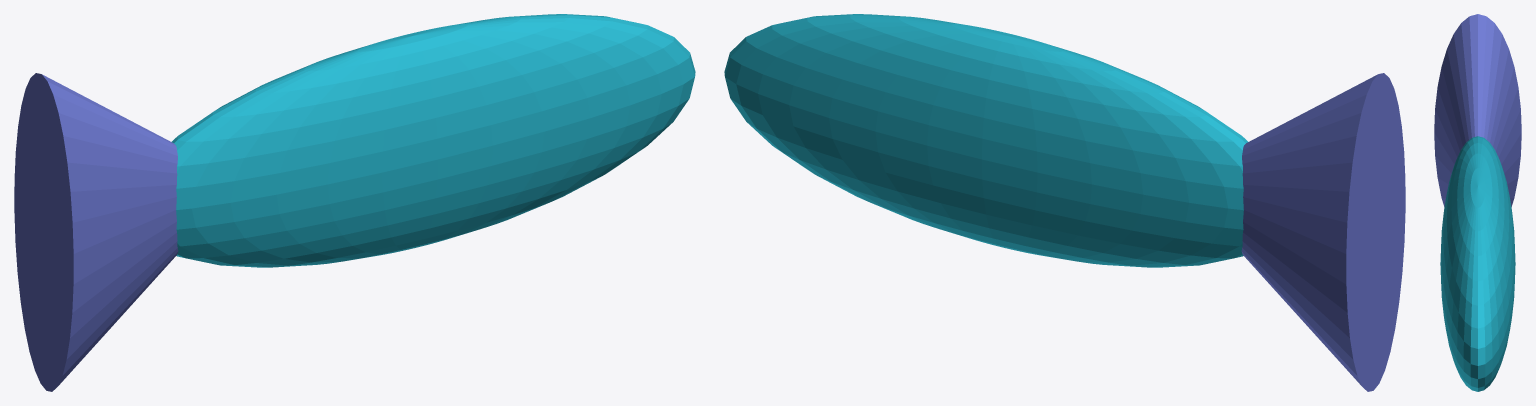
Rendered from fish.dae.
3 renders of one model, left to right at view 1: azimuth 30°, elevation 25°; view 2: azimuth 150°, elevation 25°; view 3: azimuth 270°, elevation 25°, orthographic. The views are drawn at different scales.
Visible parts, largest first — view 1: Sphere, Cone; view 2: Sphere, Cone; view 3: Sphere, Cone.
Boxes of the visible parts, left/top/right/bottom form: Sphere: left=171, top=14, right=695, bottom=267; Cone: left=14, top=73, right=178, bottom=391; Sphere: left=724, top=14, right=1248, bottom=267; Cone: left=1241, top=73, right=1405, bottom=391; Sphere: left=1440, top=136, right=1515, bottom=391; Cone: left=1434, top=14, right=1521, bottom=206.
Bounding box in the file's own units: 6.52 × 1.02 × 3.03.
